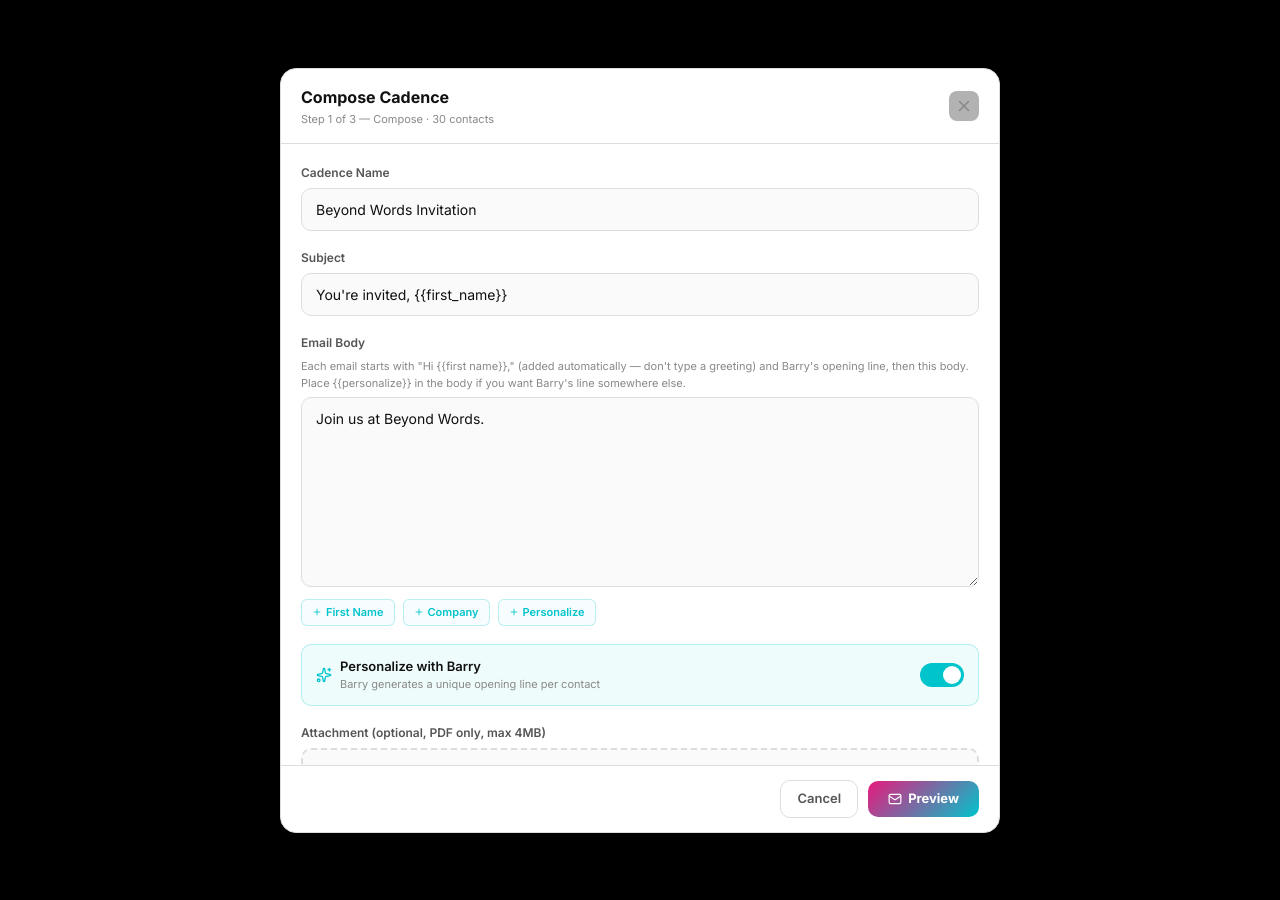
Test case: BulkComposeModal — imported group › sends a real test of the first email to the user, without touching a contact or cadence
This screenshot has width=1280, height=900.
Expected: the text "Step 1 of 3 — Compose · 30 contacts" is shown, [301,110,494,127]
Click the button "Preview": click(924, 799) [868,781,979,816]
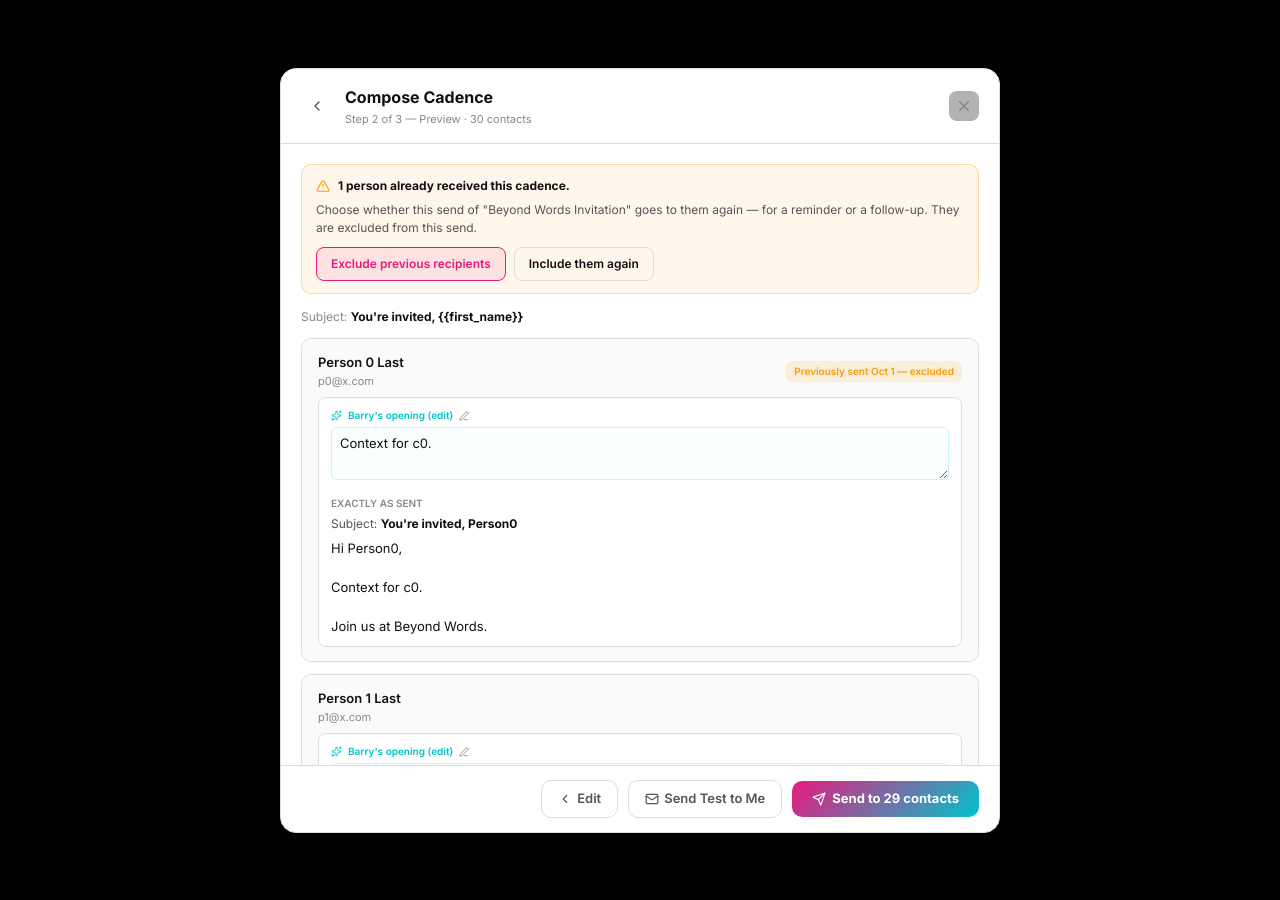
Now the text "1 person already received this cadence." is shown, box [338,177,570,195]
Click the button "Send Test to Me": click(705, 799) [628,780,782,818]
(page scrolled)
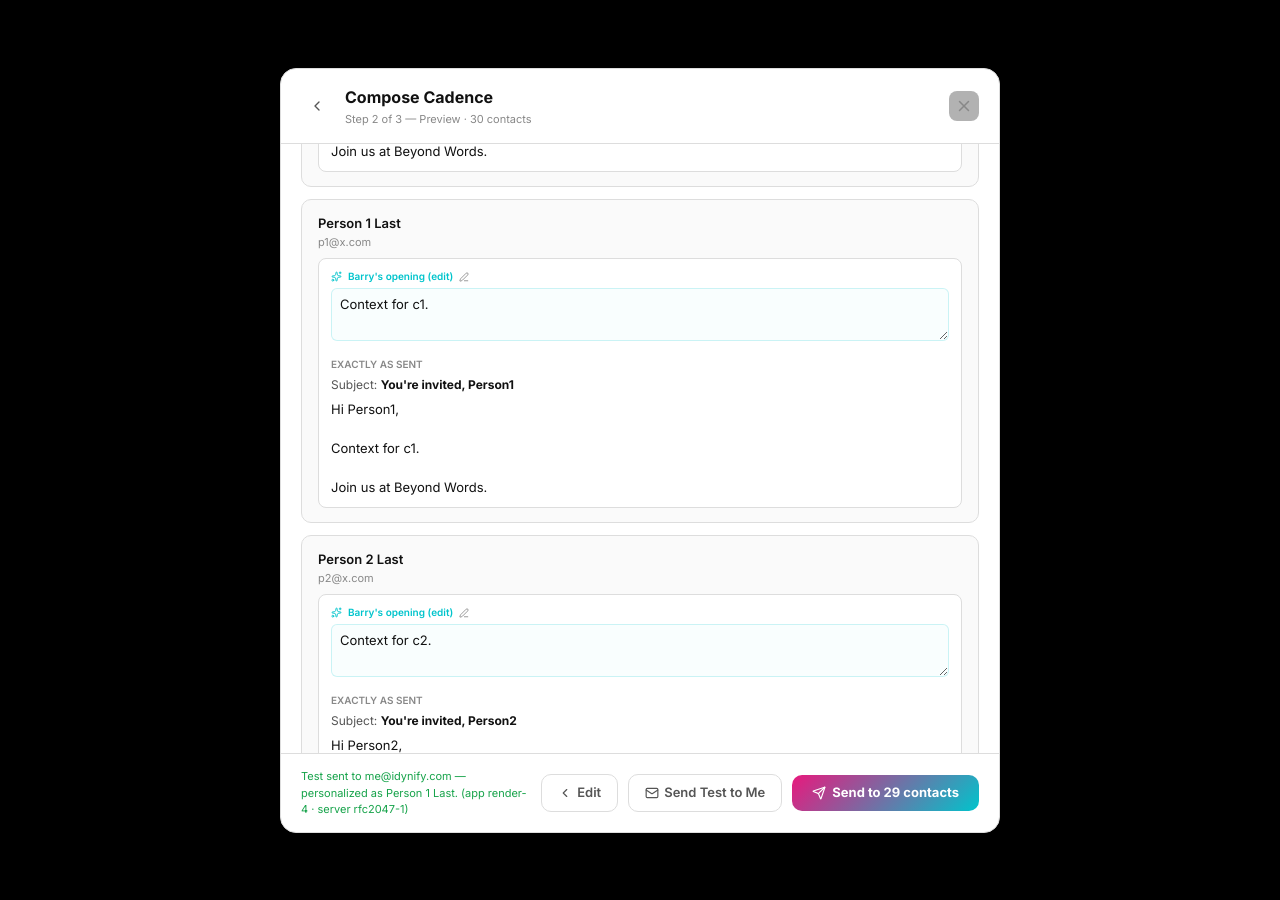
Now the text "Test sent to me@idynify.com" is shown, box [301,769,527,816]
